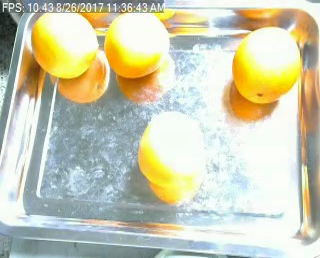Orange: (230, 25, 301, 104), (137, 109, 204, 187), (30, 11, 99, 78), (105, 13, 170, 80)
